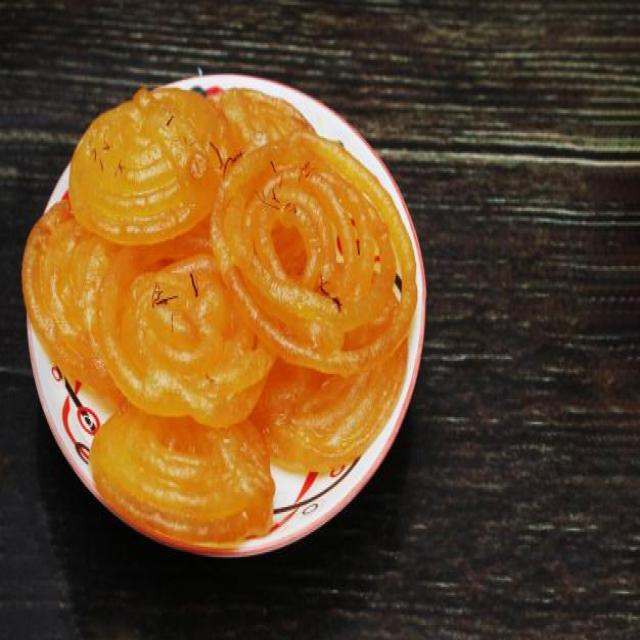jalebi: (28, 80, 424, 538)
